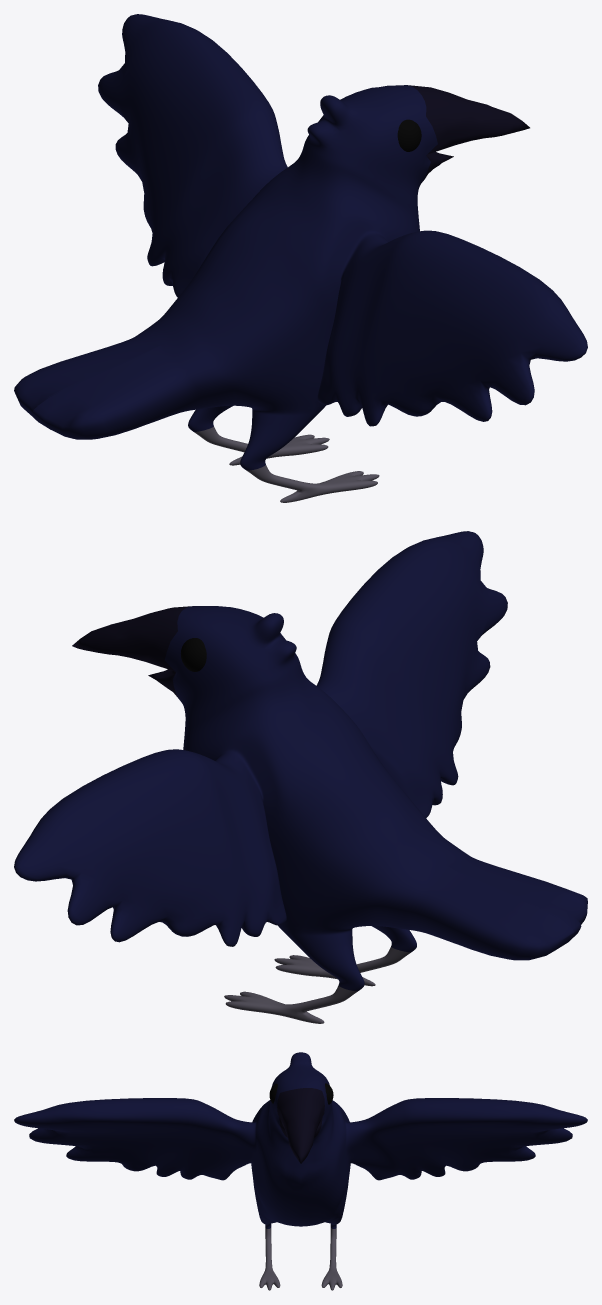
The model's file is cuervoMat.fbx.
The picture shows the model from 3 angles, top to bottom: view 1: azimuth 30°, elevation 25°; view 2: azimuth 150°, elevation 25°; view 3: azimuth 270°, elevation 25°; orthographic projection. The views are drawn at different scales.
Parts seen in each view (by area): view 1: Cube.001; view 2: Cube.001; view 3: Cube.001.
Part boxes in pixels (x1,y1,x2,y2): Cube.001: (14,14,587,502); Cube.001: (14,531,587,1023); Cube.001: (14,1052,587,1290).
Bounding box in the file's own units: 168 × 119 × 267.
